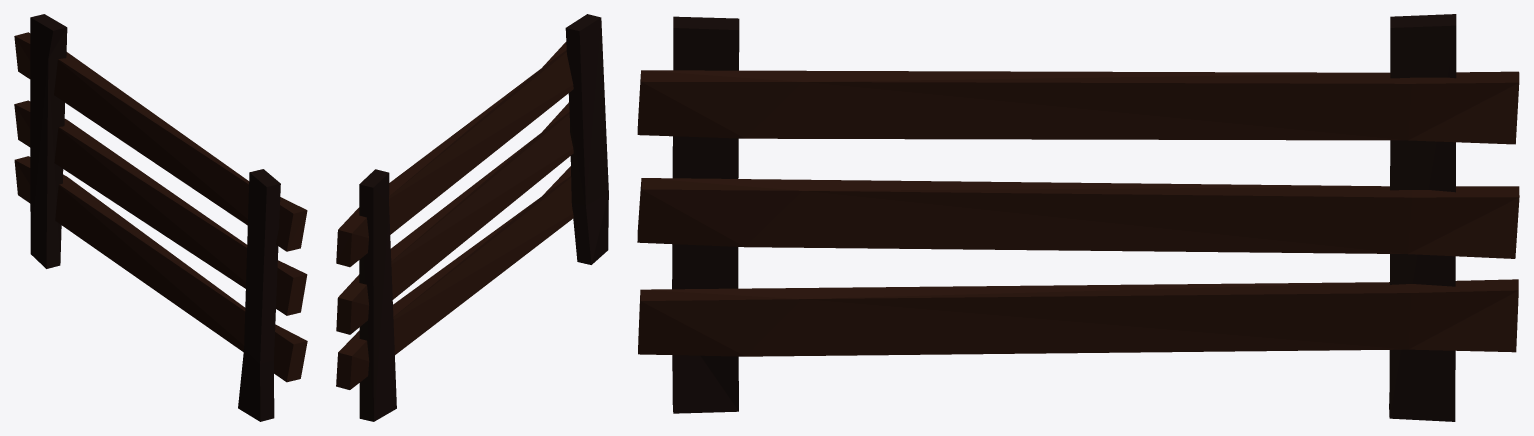
Rendered from zabor d.FBX.
3 views of the same model, side by side, from view 1: azimuth 30°, elevation 25°; view 2: azimuth 150°, elevation 25°; view 3: azimuth 270°, elevation 25° (orthographic). The views are drawn at different scales.
Visible parts, largest first — view 1: zabor d; view 2: zabor d; view 3: zabor d.
Part boxes in pixels (box(x1,y1,x2,y2)): zabor d: box(14, 14, 307, 421); zabor d: box(336, 14, 608, 421); zabor d: box(637, 14, 1519, 421).
Bounding box in the file's own units: 0.2811 × 3.15 × 1.57.
